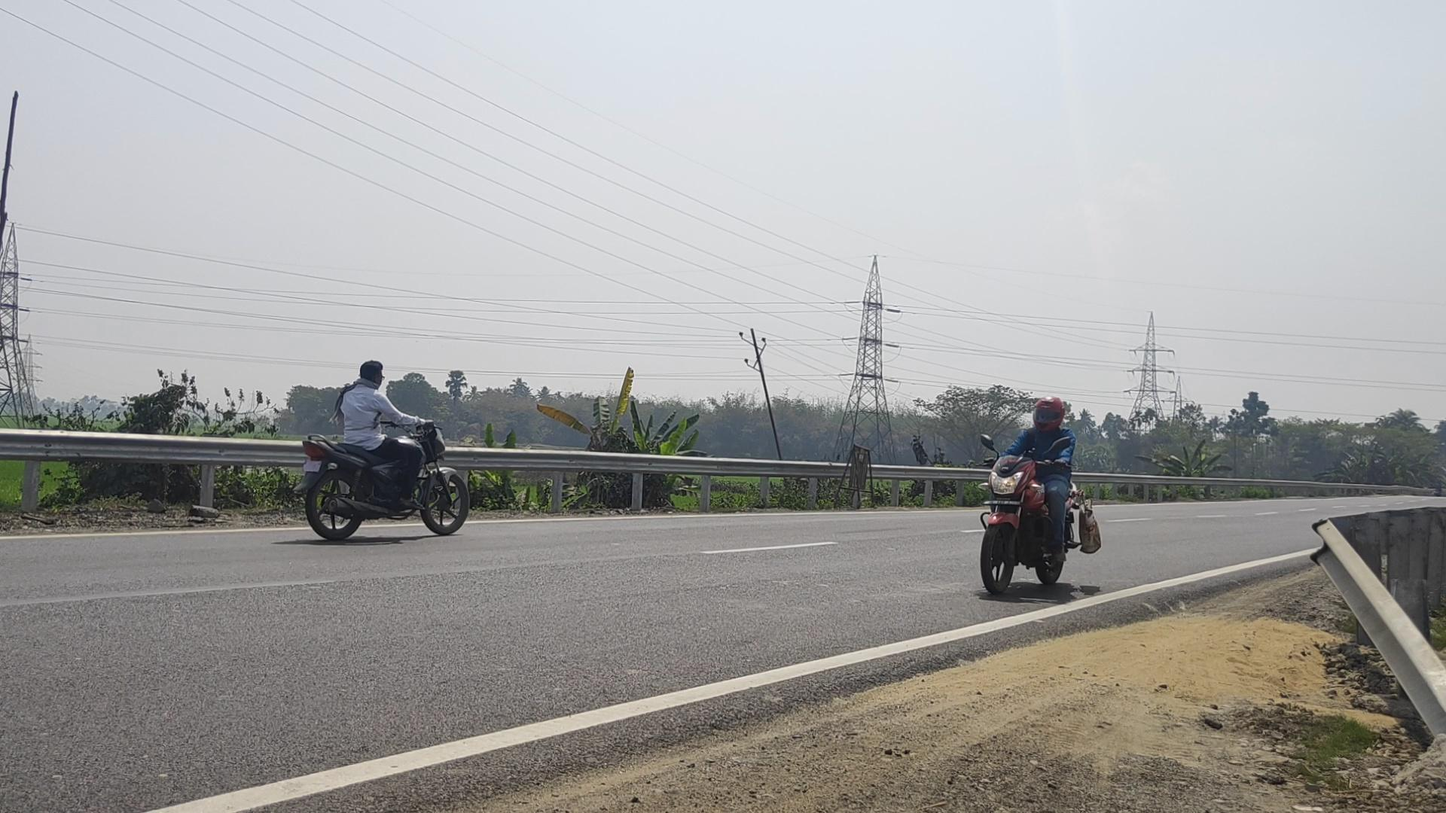bike: (294, 361, 470, 541), (980, 396, 1102, 595)
